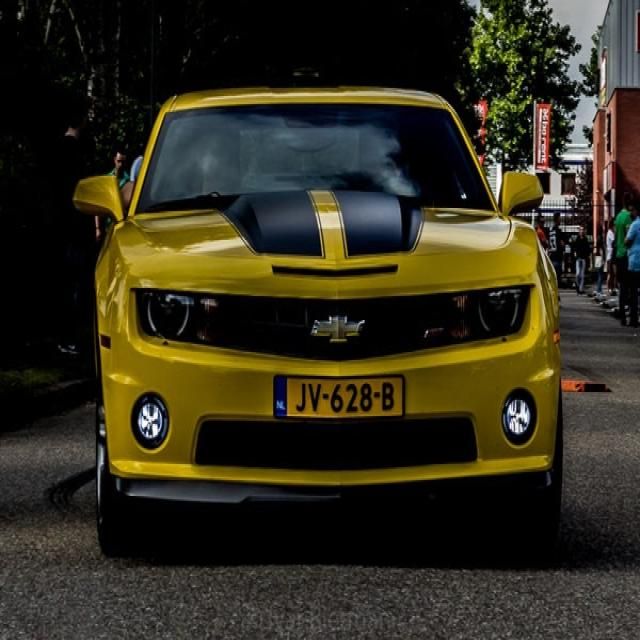number_plate: (272, 371, 405, 416)
